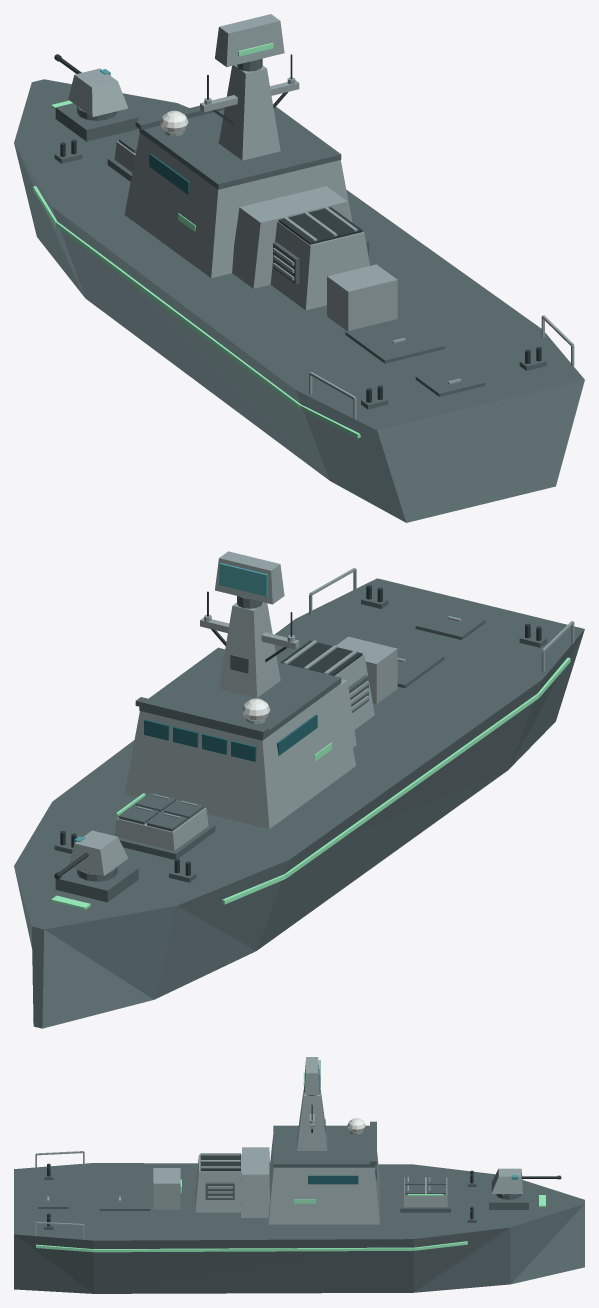
Rendered from ESC_CAP_T0.fbx.
The picture shows the model from 3 angles, top to bottom: view 1: azimuth 30°, elevation 25°; view 2: azimuth 150°, elevation 25°; view 3: azimuth 270°, elevation 25°; orthographic projection. The views are drawn at different scales.
Visible parts, largest first — view 1: ContinuousHull, Deckhouse, Roof, AftServiceCabin, FunnelEnclosure, AirSearchMast, AftFireControlCabinet, AftEquipmentAccess, RotatingSearchRadarCabinet, PrimaryGunCupola, PrimaryGunDeckPlinth, RoleHullStripe-1_1 (+3 smaller); view 2: ContinuousHull, Deckhouse, Roof, AirSearchMast, AftFireControlCabinet, ForwardVLSCasing, PrimaryGunCupola, PrimaryGunDeckPlinth, RotatingSearchRadarCabinet, RoleHullStripe-1_1, BridgeBrow, ExhaustGrille (+7 smaller); view 3: ContinuousHull, Deckhouse, Roof, AftServiceCabin, FunnelEnclosure, AirSearchMast, RoleHullStripe1_1, AftFireControlCabinet, AftEquipmentAccess, PrimaryGunCupola, ForwardVLSCasing, PrimaryGunDeckPlinth (+6 smaller).
Boxes of the visible parts, x1,y1,x2,y2 form: ContinuousHull: (14, 79, 584, 522); Deckhouse: (124, 133, 352, 278); Roof: (139, 107, 341, 189); AftServiceCabin: (232, 186, 350, 288); FunnelEnclosure: (270, 221, 369, 310); AirSearchMast: (218, 65, 280, 160); AftFireControlCabinet: (327, 264, 397, 331); AftEquipmentAccess: (345, 317, 444, 363); RotatingSearchRadarCabinet: (215, 14, 284, 67); PrimaryGunCupola: (68, 68, 128, 117); PrimaryGunDeckPlinth: (55, 103, 138, 141); RoleHullStripe-1_1: (55, 221, 300, 408); ContinuousHull: (14, 578, 584, 1028); Deckhouse: (124, 683, 355, 829); Roof: (139, 647, 341, 740); AirSearchMast: (218, 602, 280, 697); AftFireControlCabinet: (336, 636, 397, 704); ForwardVLSCasing: (114, 800, 208, 850); PrimaryGunCupola: (69, 830, 128, 875); PrimaryGunDeckPlinth: (55, 864, 138, 902); RotatingSearchRadarCabinet: (215, 551, 284, 604); RoleHullStripe-1_1: (284, 693, 538, 878); BridgeBrow: (135, 697, 268, 736); ExhaustGrille: (280, 640, 362, 675); ContinuousHull: (14, 1163, 584, 1293); Deckhouse: (268, 1135, 379, 1224); Roof: (273, 1125, 374, 1167); AftServiceCabin: (240, 1147, 269, 1217); FunnelEnclosure: (195, 1154, 241, 1212); AirSearchMast: (297, 1089, 327, 1150); RoleHullStripe1_1: (94, 1247, 413, 1252); AftFireControlCabinet: (153, 1168, 180, 1209); AftEquipmentAccess: (99, 1190, 150, 1210); PrimaryGunCupola: (491, 1168, 522, 1193); ForwardVLSCasing: (403, 1177, 447, 1207); PrimaryGunDeckPlinth: (489, 1186, 528, 1209).
Bounding box in the file's own units: 290 × 349 × 900.
